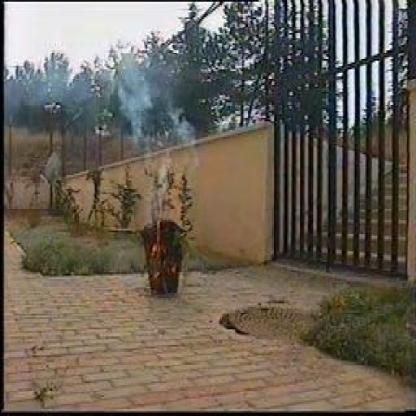-: (116, 59, 204, 151)
foggia-v2-map80-epoch100 - v1 4323: (148, 204, 172, 264)
